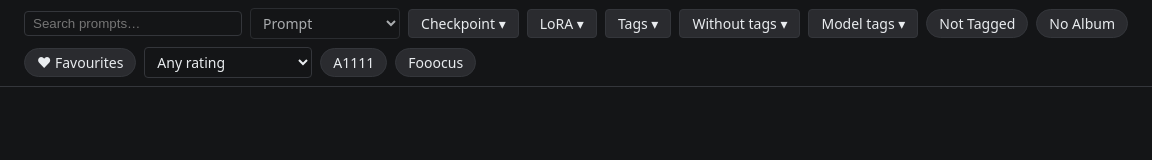
it: FilterBar › filters favourites and a minimum rating
Click the button "♥ Favourites": point(80, 62) top-left (24, 48), bottom-right (136, 77)
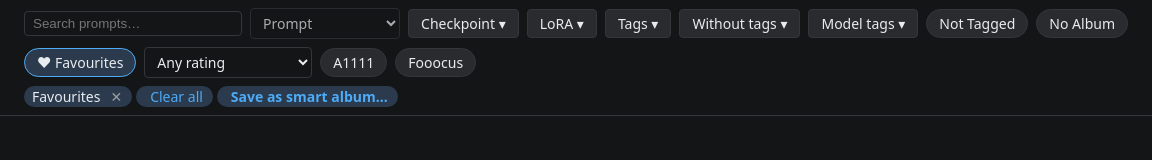
Select "★★★ or more" in the dropdown named "Minimum rating": point(228, 62) top-left (144, 47), bottom-right (312, 78)
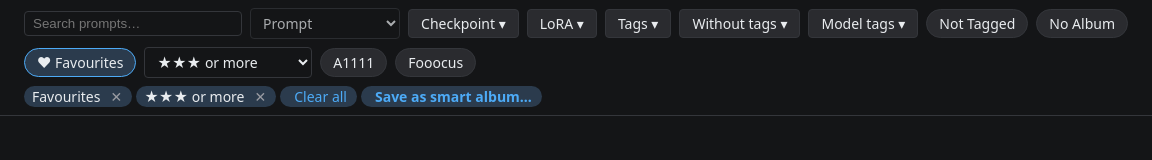
Now the list named "Active filters" shows "★★★ or more", box top-left (144, 87), bottom-right (244, 106)
